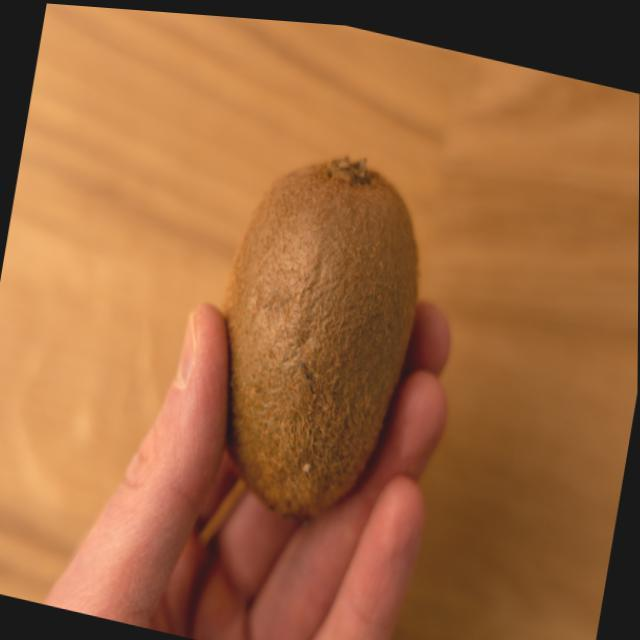kiwi: (193, 127, 442, 535)
